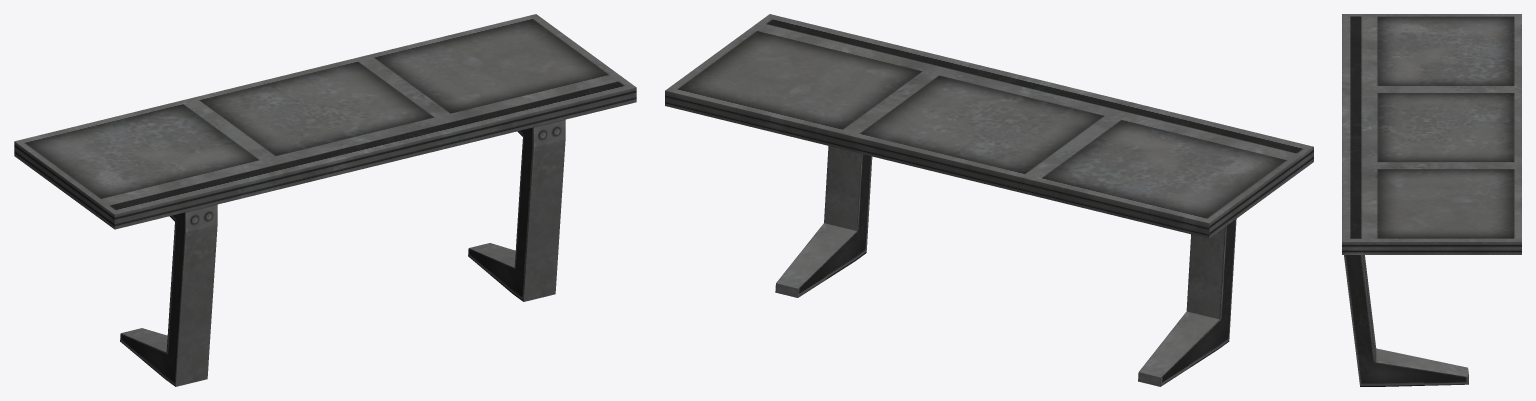
Rendered from Obj_Counter_1.FBX.
The picture shows the model from 3 angles, left to right: view 1: azimuth 30°, elevation 25°; view 2: azimuth 150°, elevation 25°; view 3: azimuth 270°, elevation 25°; orthographic projection. The views are drawn at different scales.
Visible parts, largest first — view 1: Counter_1; view 2: Counter_1; view 3: Counter_1.
Boxes of the visible parts, x1=… form: Counter_1: x1=14, y1=14, x2=636, y2=386; Counter_1: x1=665, y1=14, x2=1313, y2=386; Counter_1: x1=1342, y1=14, x2=1521, y2=386.
Bounding box in the file's own units: 3 × 1.08 × 1.
